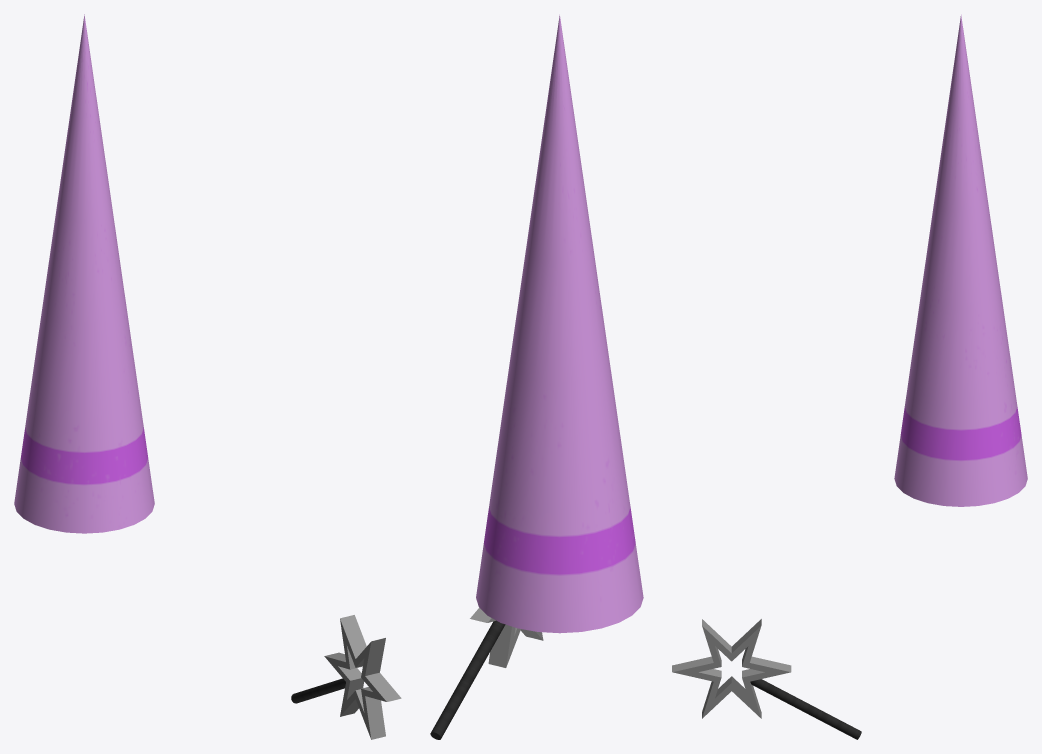
File: Princess_Accesories.FBX
3 renders of one model, left to right at view 1: azimuth 30°, elevation 25°; view 2: azimuth 150°, elevation 25°; view 3: azimuth 270°, elevation 25°, orthographic. The views are drawn at different scales.
Parts seen in each view (by area): view 1: Cone001, Star001; view 2: Cone001, Cylinder001, Star001; view 3: Cone001, Star001, Cylinder001.
Part boxes in pixels (box(x1,y1,x2,y2)): Cone001: box(14, 14, 154, 533); Star001: box(324, 615, 401, 739); Cone001: box(476, 14, 643, 633); Cylinder001: box(430, 620, 505, 739); Star001: box(470, 607, 543, 667); Cone001: box(894, 14, 1027, 506); Star001: box(672, 619, 791, 718); Cylinder001: box(750, 679, 861, 739).
Bounding box in the file's own units: 15.29 × 44.46 × 21.97.
Materials: 3 (2 with a texture image).
